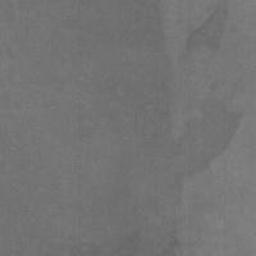Water spot: (0, 0, 244, 256), (180, 0, 228, 59)
